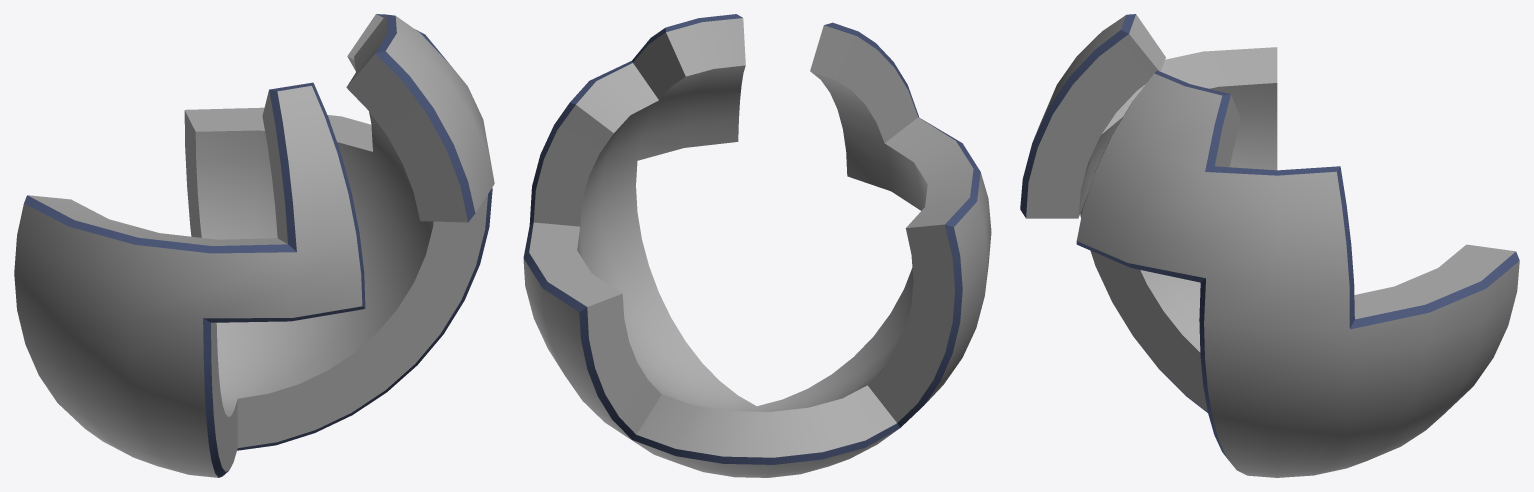
Rendered from Key_2.fbx.
3 renders of one model, left to right at view 1: azimuth 30°, elevation 25°; view 2: azimuth 150°, elevation 25°; view 3: azimuth 270°, elevation 25°, orthographic. The views are drawn at different scales.
Parts seen in each view (by area): view 1: Key_5; view 2: Key_5; view 3: Key_5.
Part boxes in pixels (x1,y1,x2,y2): Key_5: (14, 14, 494, 477); Key_5: (523, 14, 991, 477); Key_5: (1020, 14, 1519, 477).
Size of the model in its own units: 2.6 by 2.33 by 2.51.
